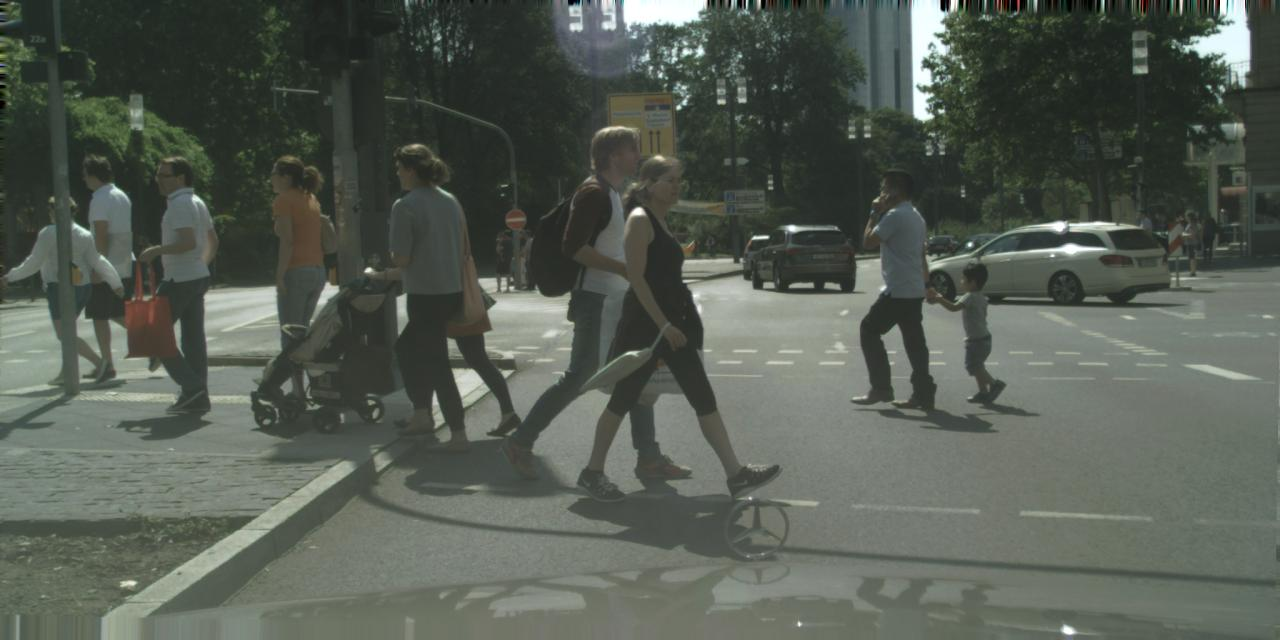ped: (530, 124, 675, 480), (596, 154, 738, 500), (364, 143, 485, 440), (389, 168, 496, 431), (129, 157, 233, 412), (245, 156, 349, 410), (846, 168, 942, 400), (64, 153, 154, 374), (33, 195, 110, 383), (951, 262, 1008, 402), (1178, 212, 1204, 276), (492, 230, 518, 292), (1132, 210, 1157, 272), (518, 230, 542, 290), (506, 229, 528, 285), (1196, 208, 1218, 263), (510, 230, 530, 284), (706, 234, 714, 254), (692, 236, 699, 256)
